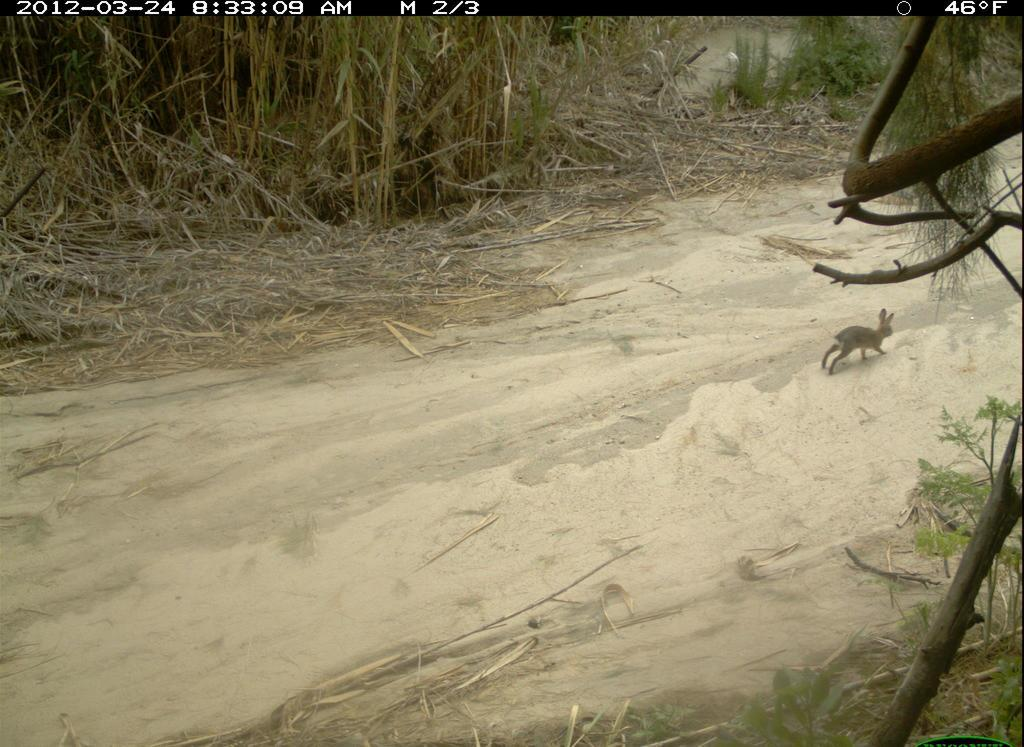rabbit: (826, 300, 912, 391)
